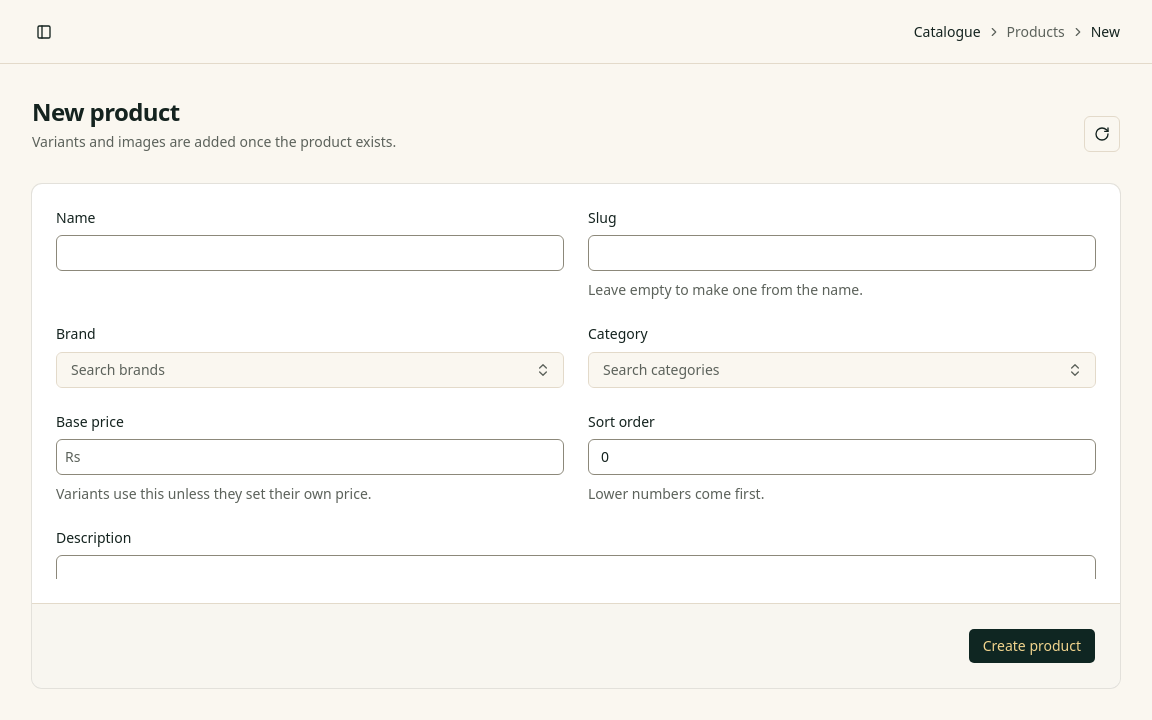
Test: new product › creates the product and opens it
The image size is (1152, 720).
Type "Silk Foundation" into the field labelled "Name" at [310, 253], box [56,235,564,271]
Click the dropdown labelled "brand" at [118, 369], box [56,352,564,388]
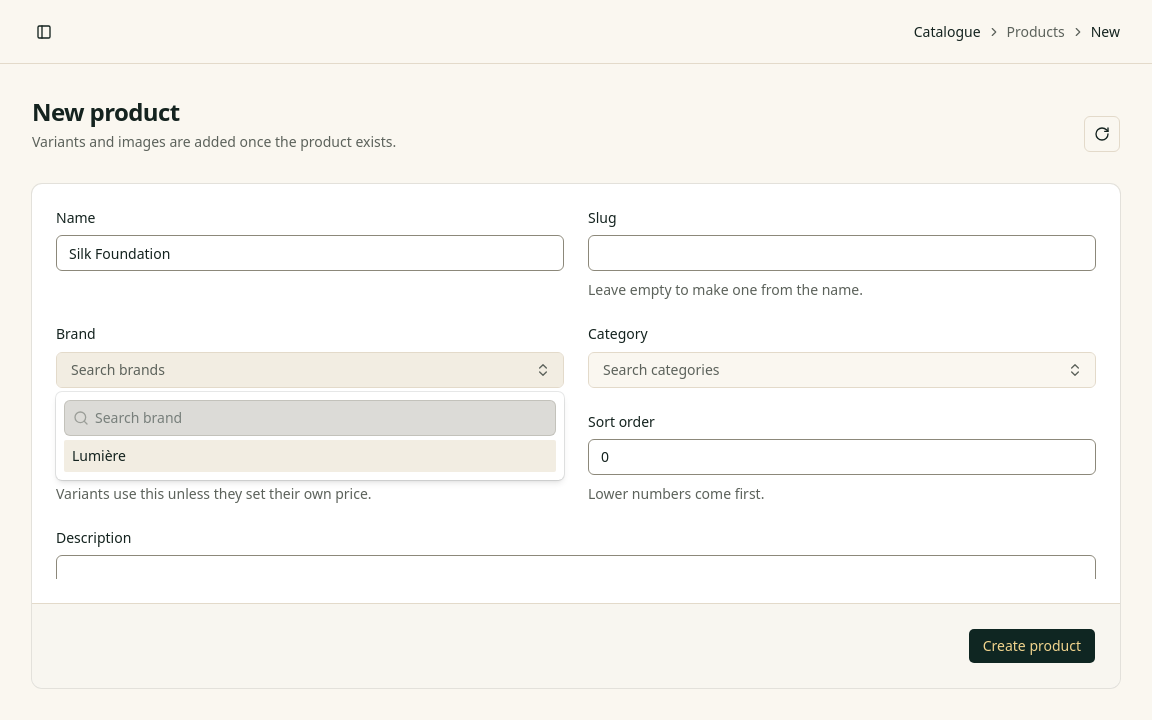
Click the option "Lumière" at [99, 456], box [64,440,556,472]
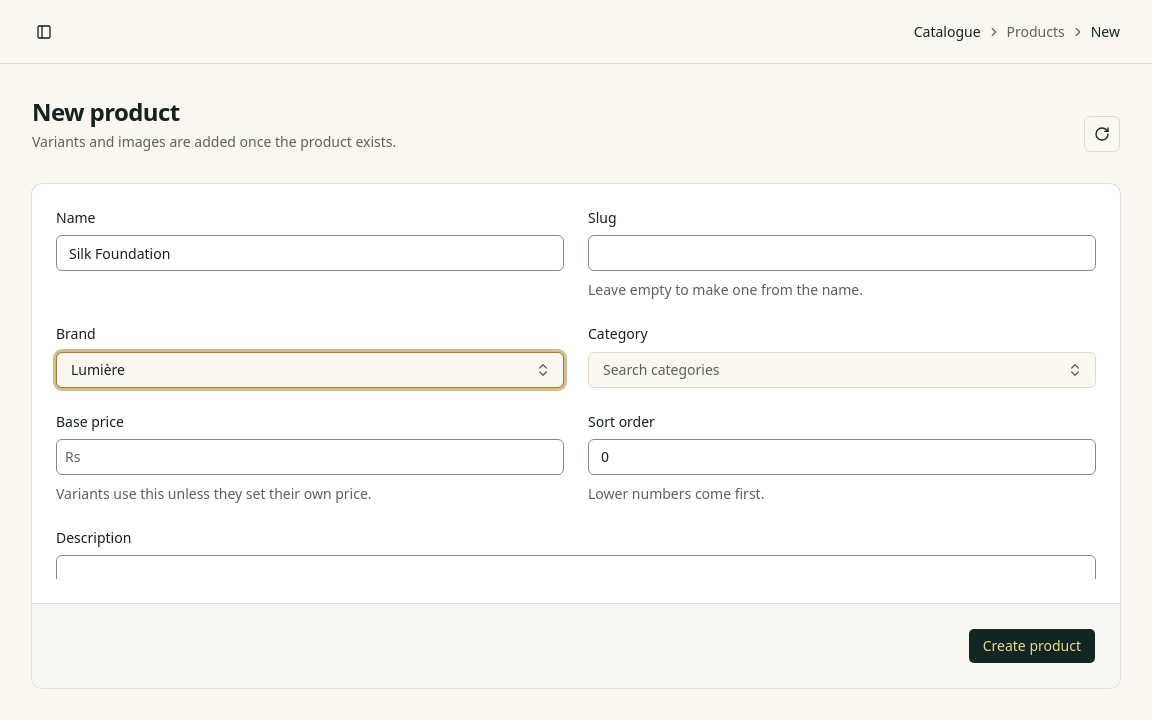
Click the dropdown named "Category" at [661, 369], box [588,352,1096,388]
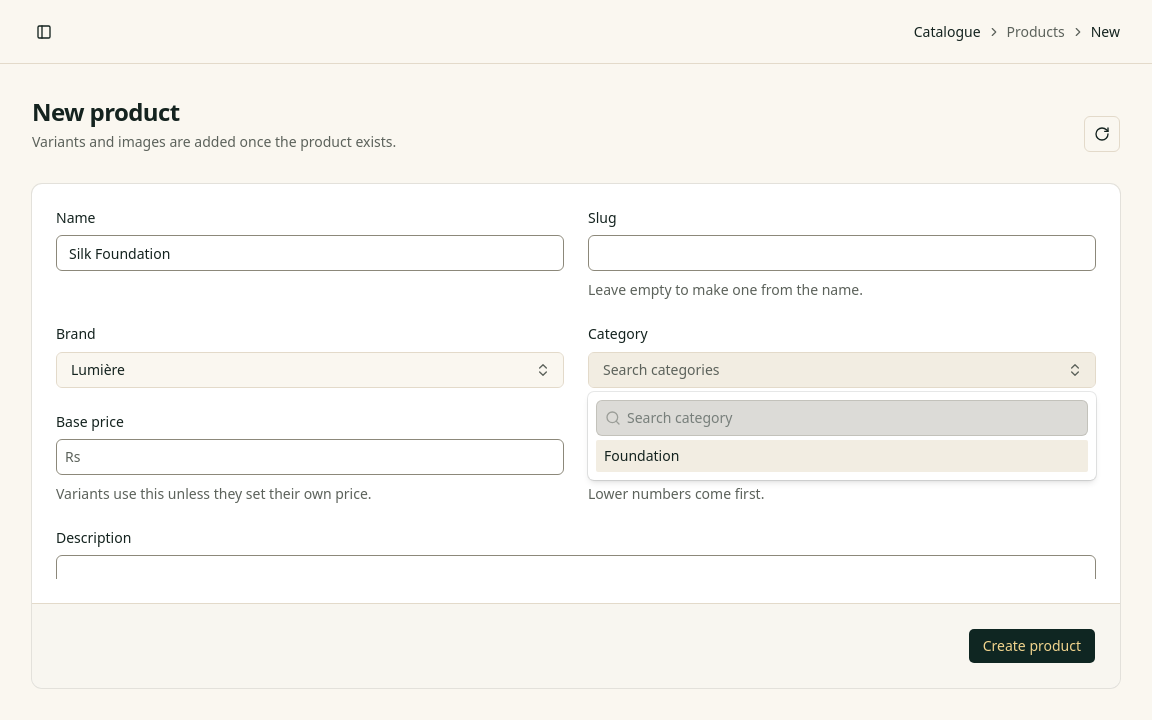
Click the option "Foundation" at [642, 456], box [596,440,1088,472]
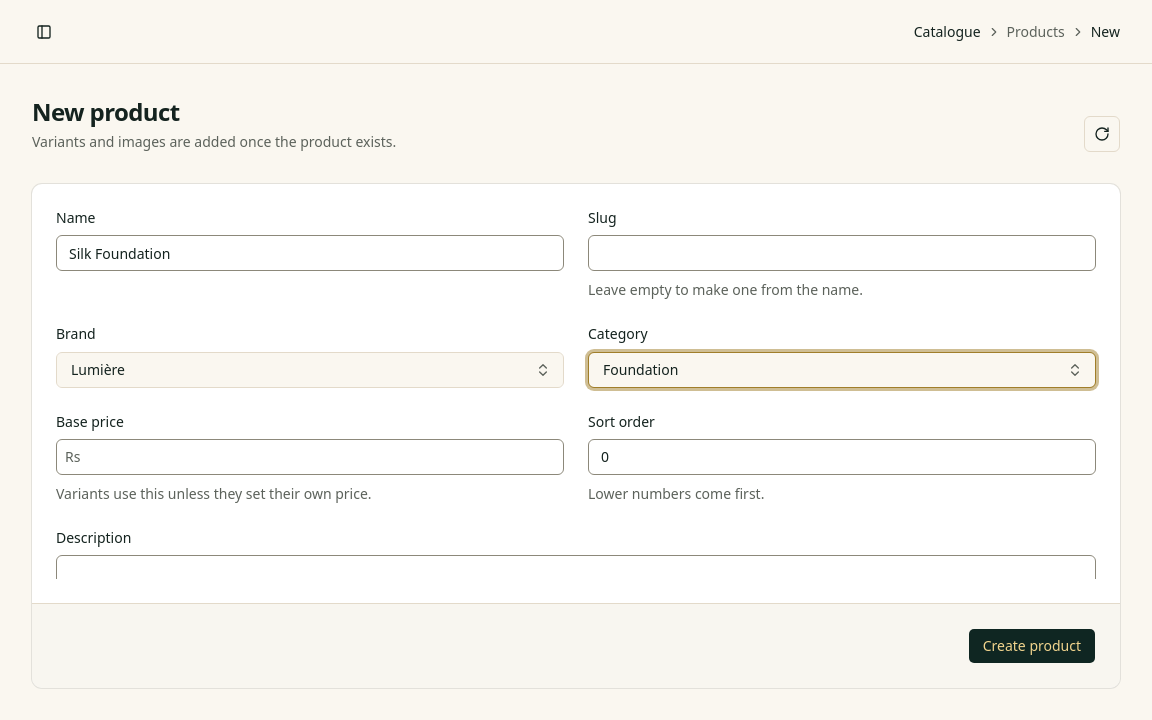
Type "3200" into the field labelled "Base price" at [322, 457], box [80,439,563,475]
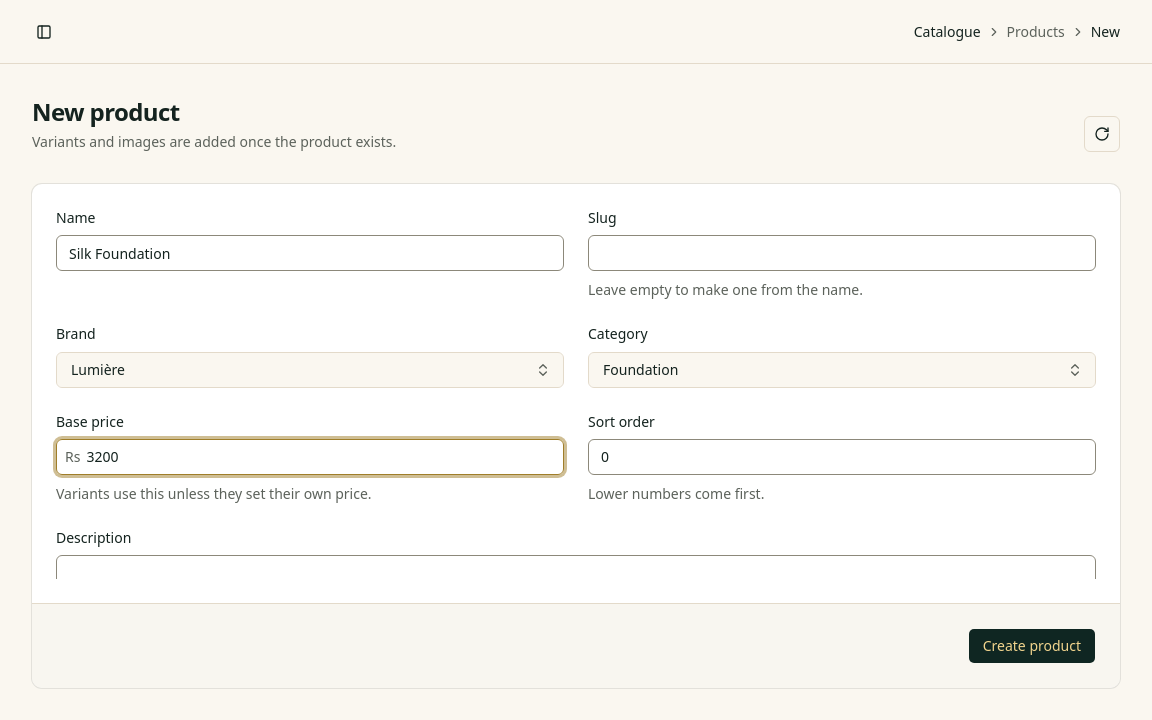
Click the button "Create product" at [1032, 646], box [968,628,1096,664]
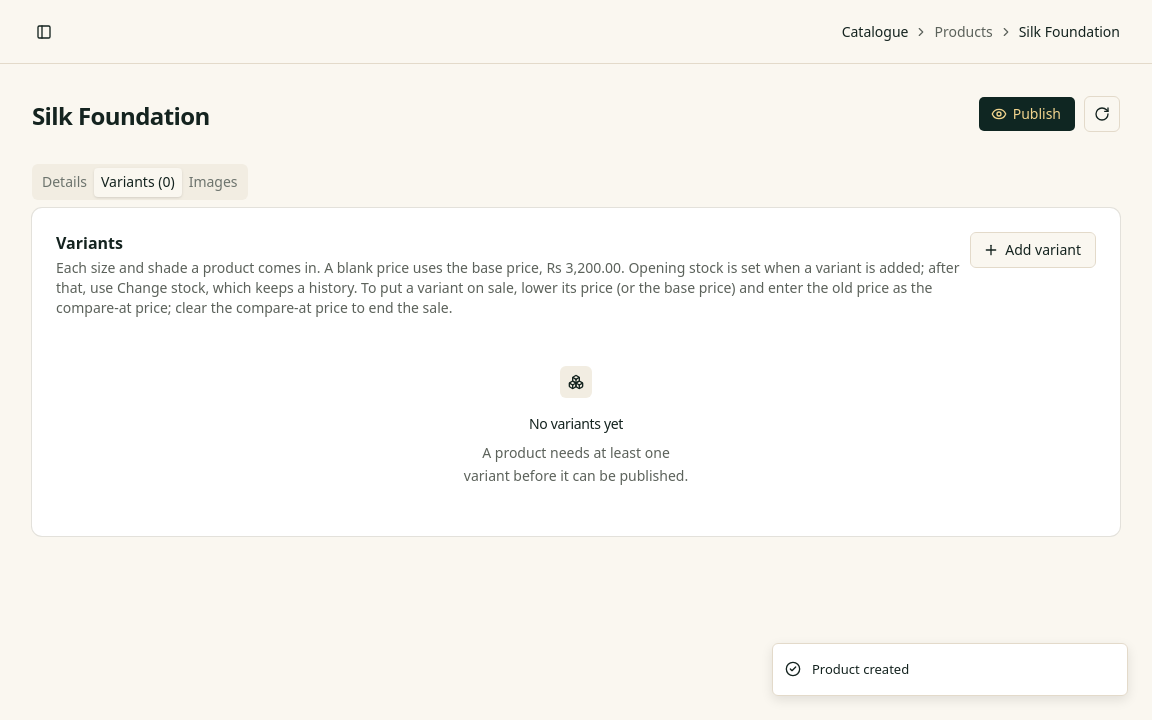
Expected: the text "Product created" is shown, [812,660,909,679]
